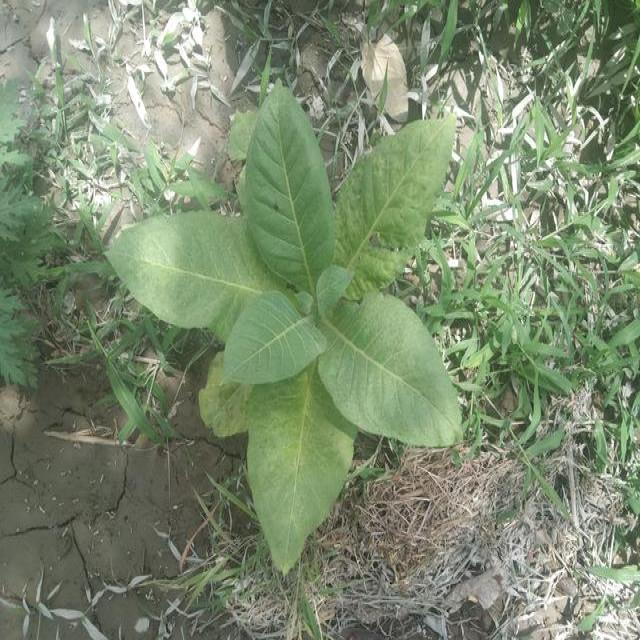crop: (98, 77, 472, 576)
